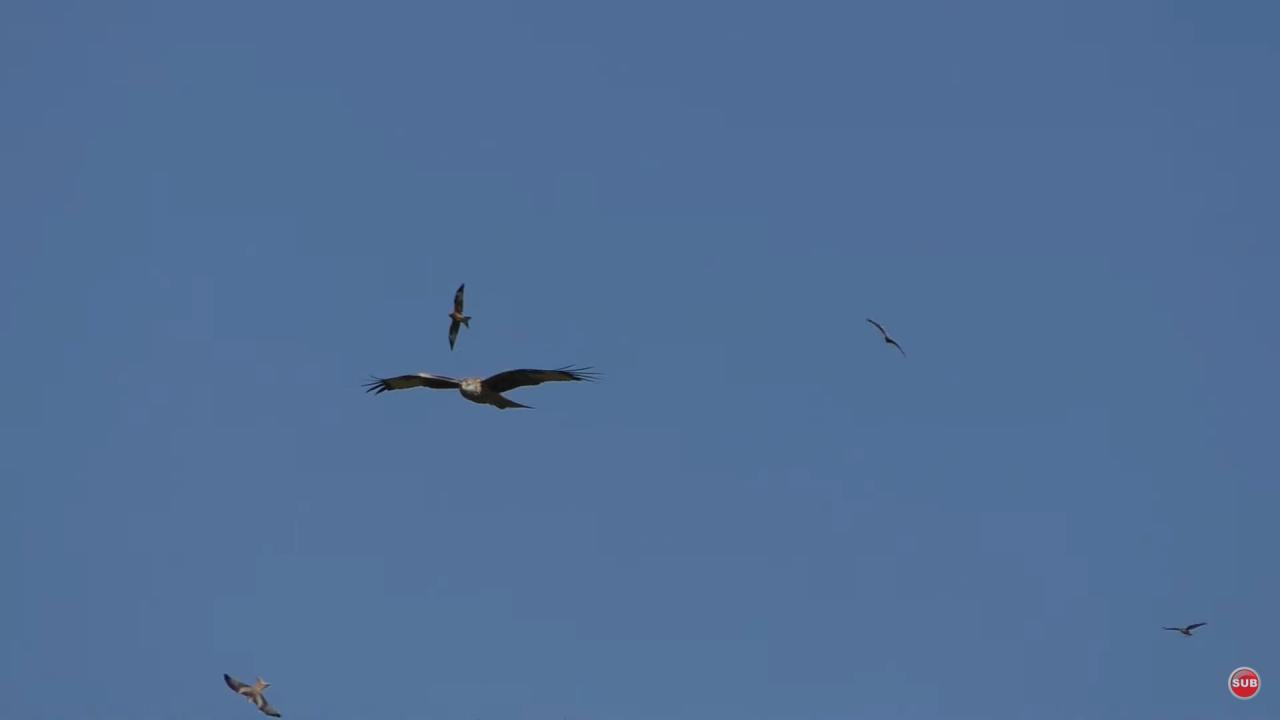Bird: (359, 362, 608, 417), (214, 658, 293, 720), (858, 300, 919, 371), (439, 276, 480, 356), (1153, 606, 1217, 650)
